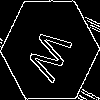W: (25, 25, 80, 89)
